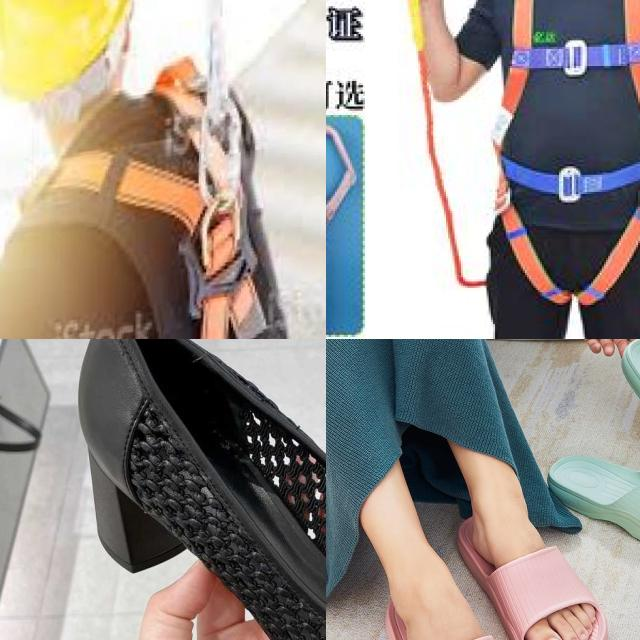Harness: (32, 53, 274, 339), (490, 0, 640, 305)
Sandals: (55, 339, 326, 640), (332, 483, 640, 640)
